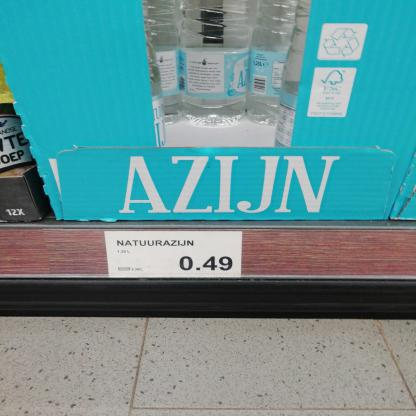prtg: (105, 232, 243, 278)
